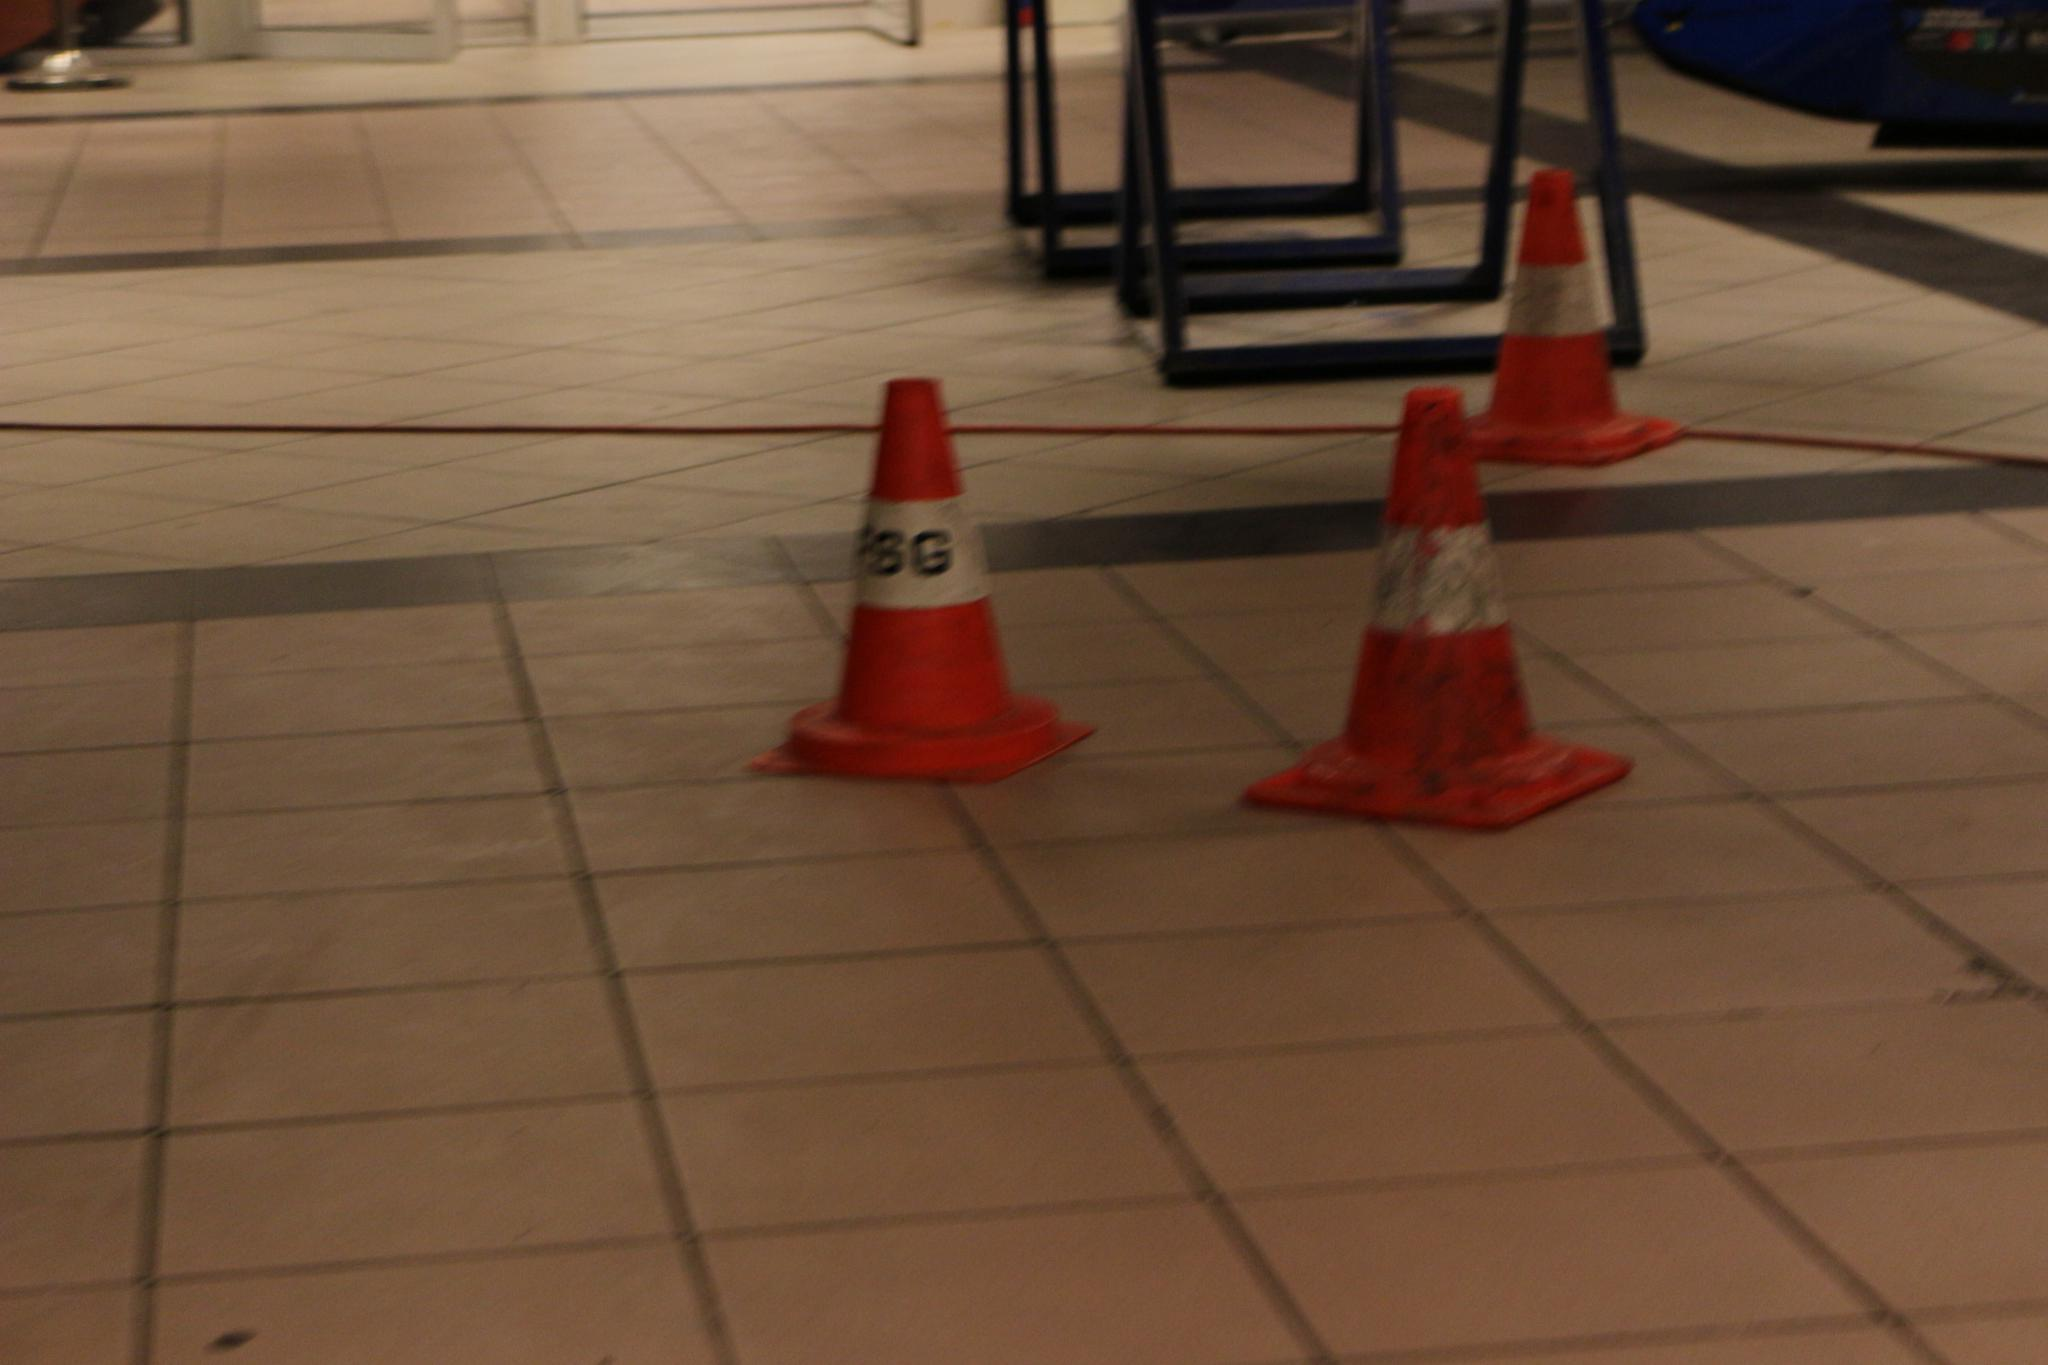Orange_Cone: (1293, 372, 1596, 836), (792, 360, 1066, 782), (1454, 143, 1664, 475)
